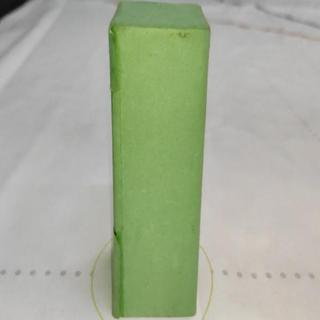greenbox: (107, 0, 209, 320)
